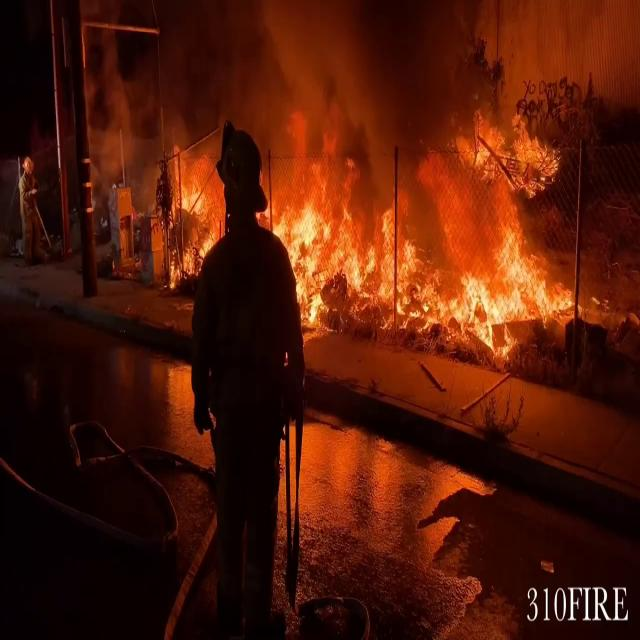Fire: (276, 118, 598, 358), (167, 139, 229, 271)
Smoke: (210, 5, 476, 188)
